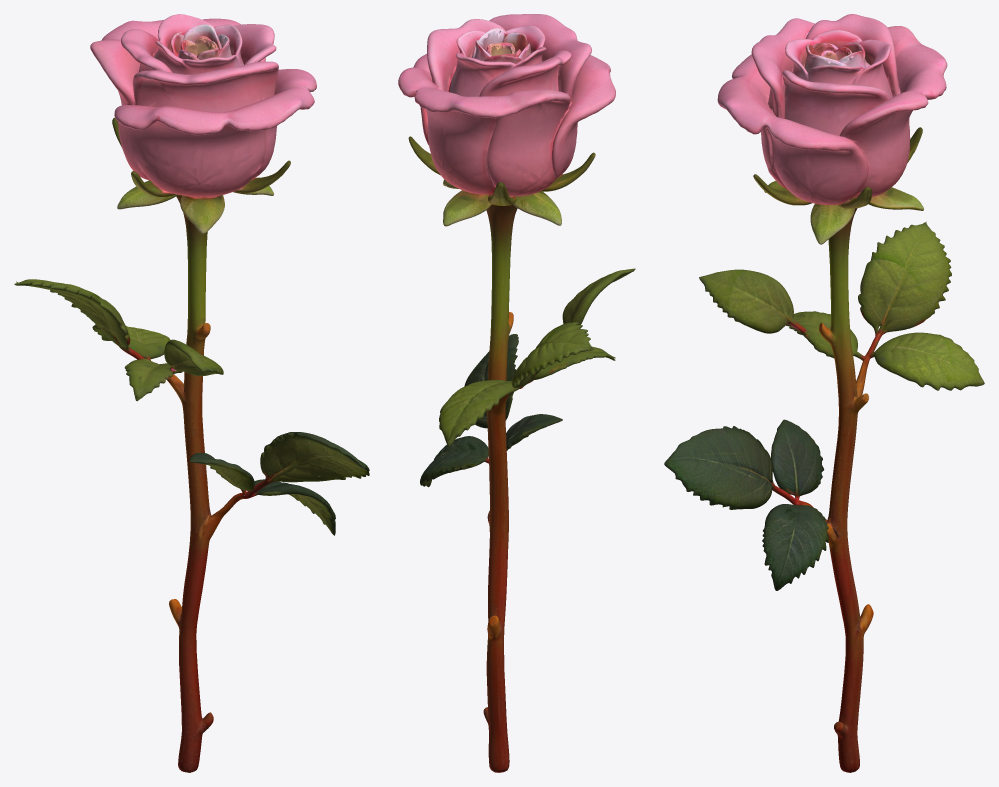
The model's file is Pink Rose 2_opt.glb.
The picture shows the model from 3 angles, left to right: view 1: azimuth 30°, elevation 25°; view 2: azimuth 150°, elevation 25°; view 3: azimuth 270°, elevation 25°; orthographic projection.
Parts seen in each view (by area): view 1: tripo_node_424aeebc-73f9-4bd7-8f13-f2312c3d3f22; view 2: tripo_node_424aeebc-73f9-4bd7-8f13-f2312c3d3f22; view 3: tripo_node_424aeebc-73f9-4bd7-8f13-f2312c3d3f22.
Boxes of the visible parts, left/top/right/bottom form: tripo_node_424aeebc-73f9-4bd7-8f13-f2312c3d3f22: left=14, top=14, right=369, bottom=772; tripo_node_424aeebc-73f9-4bd7-8f13-f2312c3d3f22: left=398, top=14, right=635, bottom=772; tripo_node_424aeebc-73f9-4bd7-8f13-f2312c3d3f22: left=664, top=14, right=984, bottom=772.
Size of the model in its own units: 0.3392 by 0.9813 by 0.3907.
1 material, 1 textured.
